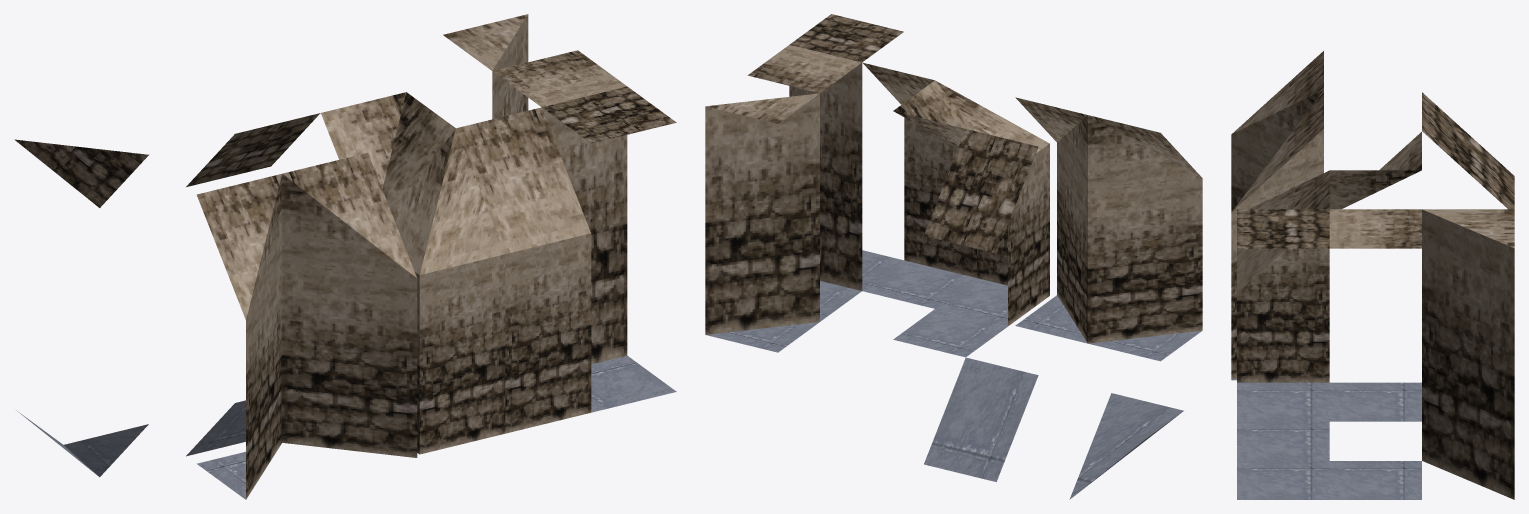
The model's file is Tileset012526.gltf.
3 renders of one model, left to right at view 1: azimuth 30°, elevation 25°; view 2: azimuth 150°, elevation 25°; view 3: azimuth 270°, elevation 25°, orthographic. The views are drawn at different scales.
Visible parts, largest first — view 1: WallFlatTransitionTile2-col, WallTile-col, CornerIn-col, WallFlatTransitionTile-col, WallTileTall-col, CornerOut-col, FCTile-col, FCornerTileDS-col, FCTileDS-col, WallCornerTile-col; view 2: WallCornerTile-col, WallFlatTransitionTile-col, FCTileDS-col, WallTileTall-col, CornerIn-col, WallTile-col, WallFlatTransitionTile2-col, CornerOut-col, FCornerTileDS-col, FCTile-col; view 3: WallCornerTile-col, CornerIn-col, WallTileTall-col, FCTile-col, CornerOut-col, WallTile-col, WallFlatTransitionTile-col, WallFlatTransitionTile2-col, FCTileDS-col.
Boxes of the visible parts, x1,y1,x2,y2 form: WallFlatTransitionTile2-col: (282, 153, 417, 457); WallTile-col: (456, 107, 591, 433); CornerIn-col: (391, 128, 505, 454); WallFlatTransitionTile-col: (197, 174, 282, 499); WallTileTall-col: (492, 50, 627, 364); CornerOut-col: (321, 92, 455, 211); FCTile-col: (542, 86, 676, 412); FCornerTileDS-col: (14, 139, 148, 477); FCTileDS-col: (186, 113, 320, 456); WallCornerTile-col: (443, 14, 528, 119); WallCornerTile-col: (705, 93, 819, 352); WallFlatTransitionTile-col: (1088, 115, 1202, 361); FCTileDS-col: (924, 129, 1038, 481); WallTileTall-col: (747, 45, 862, 321); CornerIn-col: (935, 80, 1049, 326); WallTile-col: (862, 62, 976, 308); WallFlatTransitionTile2-col: (1015, 97, 1087, 343); CornerOut-col: (893, 80, 1007, 357); FCornerTileDS-col: (1069, 393, 1183, 499); FCTile-col: (789, 14, 903, 290); WallCornerTile-col: (1422, 209, 1514, 499); CornerIn-col: (1237, 171, 1329, 421); WallTileTall-col: (1329, 209, 1421, 499); FCTile-col: (1237, 209, 1329, 499); CornerOut-col: (1329, 132, 1421, 421); WallTile-col: (1237, 170, 1329, 460); WallFlatTransitionTile-col: (1231, 51, 1323, 211); WallFlatTransitionTile2-col: (1231, 90, 1323, 380); FCTileDS-col: (1422, 92, 1514, 209).
Size of the model in its own units: 6 by 4 by 3.06.
Materials: 2 (2 with a texture image).
